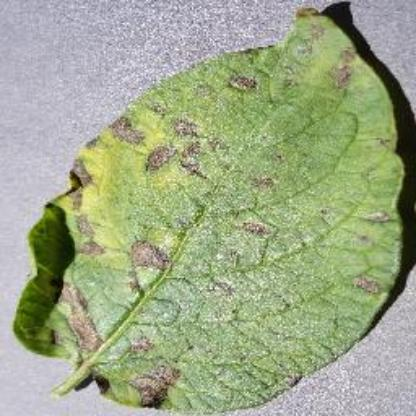Early-Blight: (12, 7, 416, 414)
